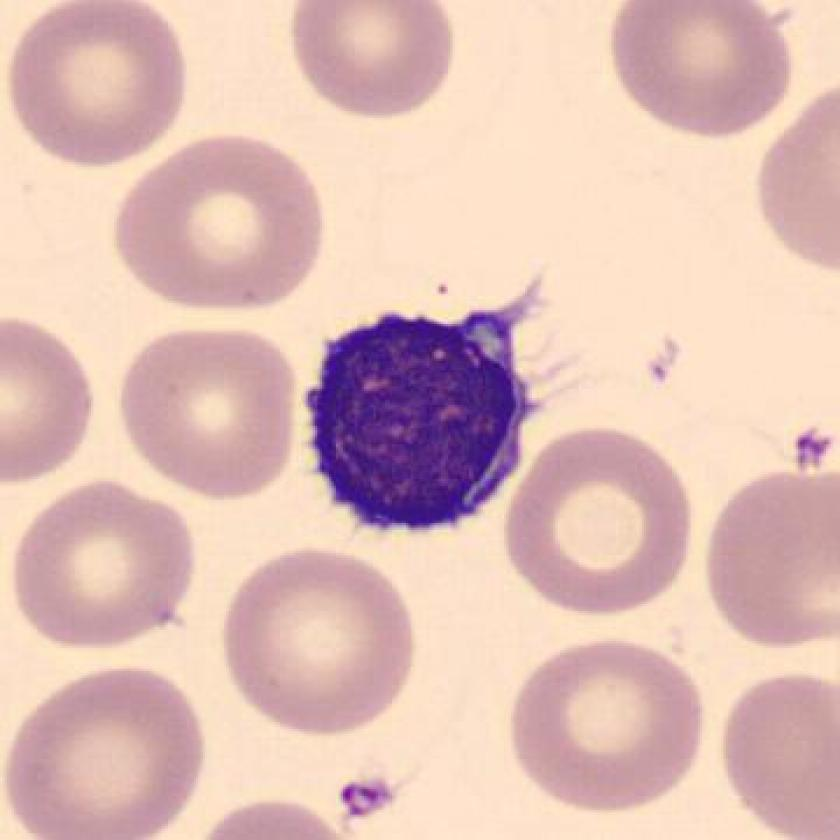lymphocyte: (293, 281, 566, 545)
